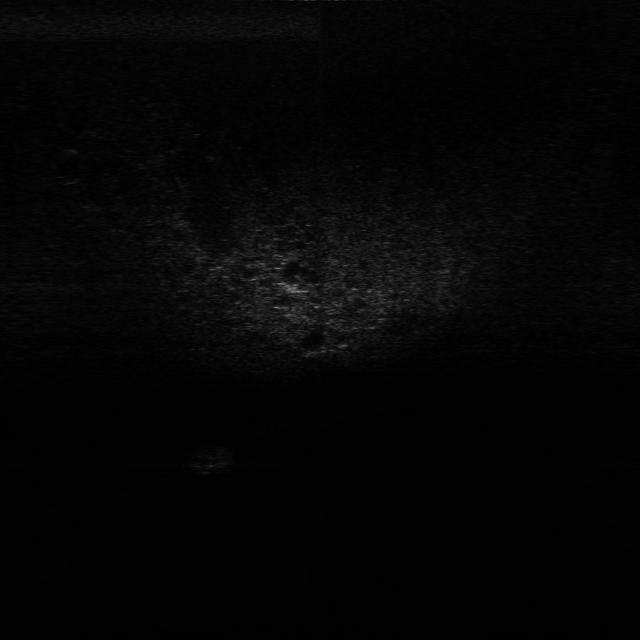circle cage: (186, 439, 240, 478)
